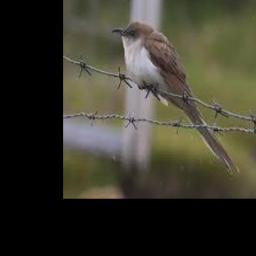Cuckoo: (112, 21, 240, 173)
